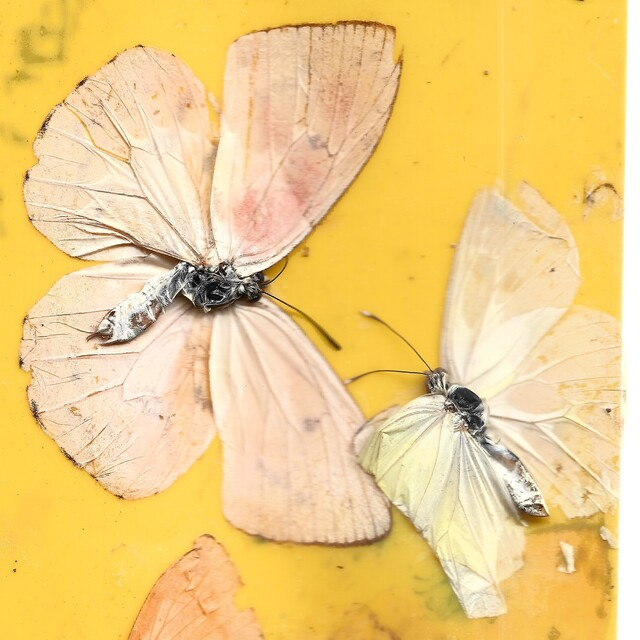Lepidoptera: (16, 19, 402, 547), (347, 180, 624, 621)
